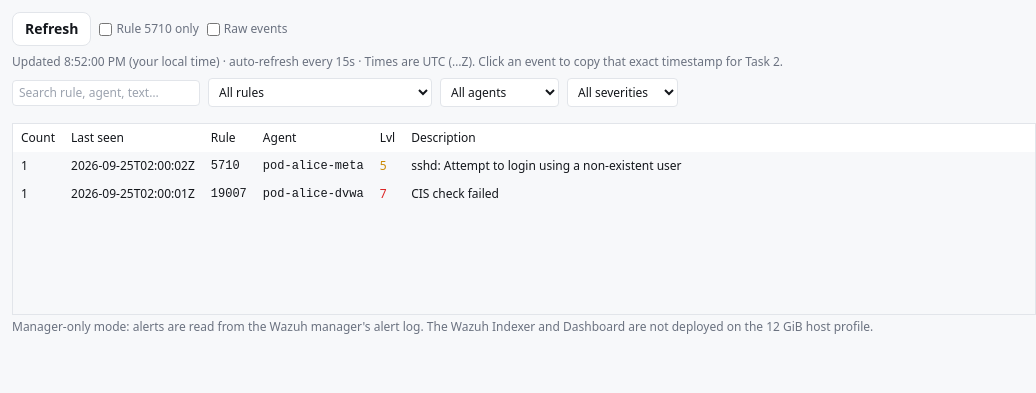
Test case: SiemAlertViewer (SIEM-POLL) › shows default, active and filtered-empty states and clears back to All
Expected: the dropdown named "Filter by rule" shows "All rules", [208,78,432,107]
Expected: the dropdown named "Filter by agent" shows "All agents", [440,78,559,107]
# Active: severity High keeps only 19007.
Select "High (7+)" in the dropdown named "Filter by severity": (622, 92) [567,78,678,107]
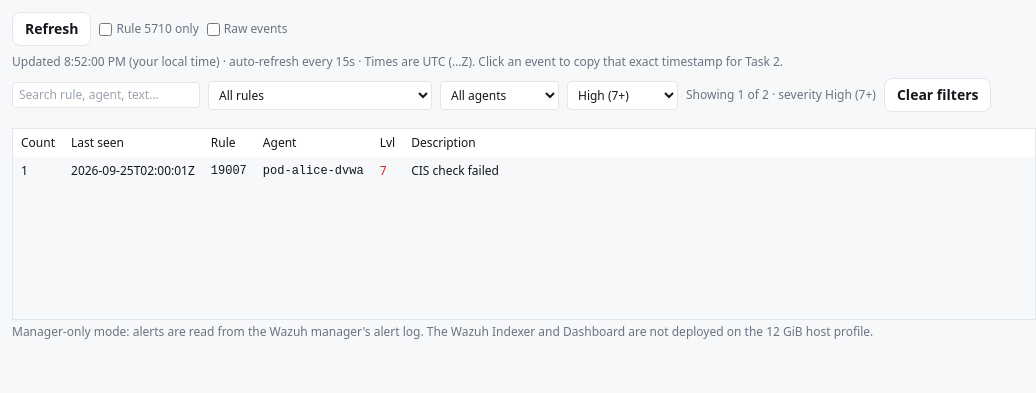
Result: the text with test id "siem-filter-summary" reads "Showing 1 of 2 · severity High (7+)" at [686,87,876,103]
Select "pod-alice-meta" in the dropdown named "Filter by agent": (500, 95) [440,80,559,110]
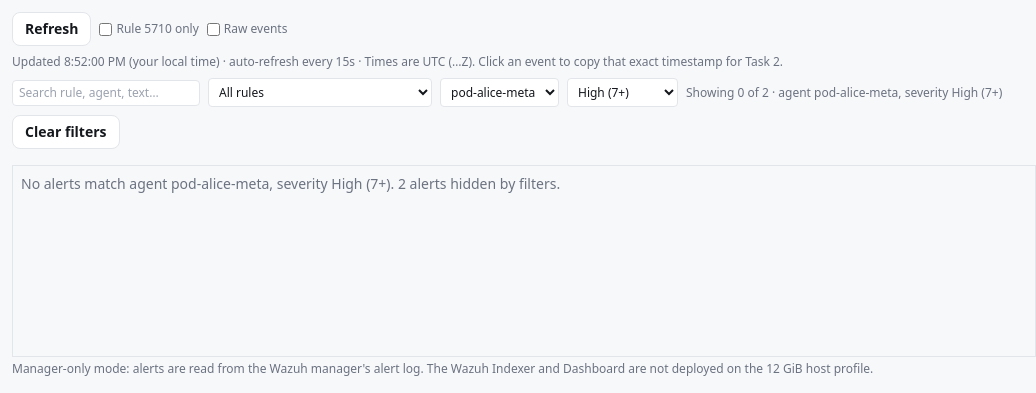
Result: the text "No alerts match agent pod-alice-meta, severity High (7+). 2 alerts hidden by filters." is shown at [21,174,560,193]
Click the button "Clear filters": (66, 132) [12,115,120,149]
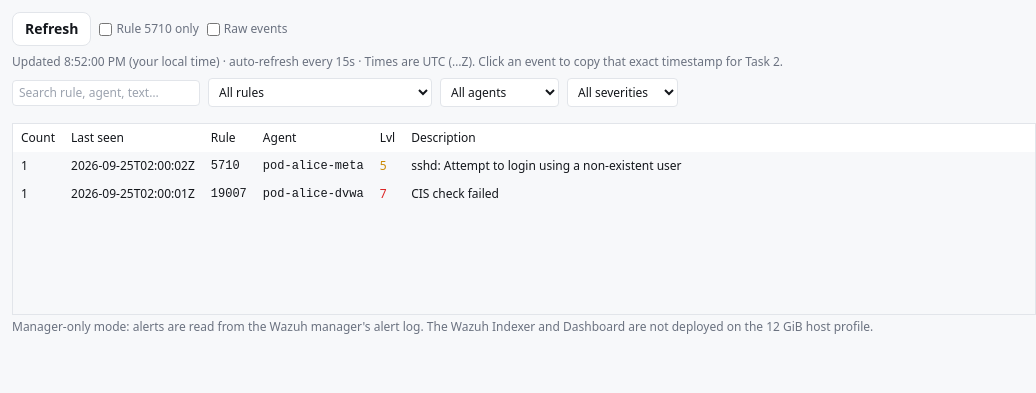
Result: the text with test id "siem-filter-summary" is gone
Result: the text "5710" is shown at [203,152,255,180]
Result: the text "19007" is shown at [203,180,255,208]
